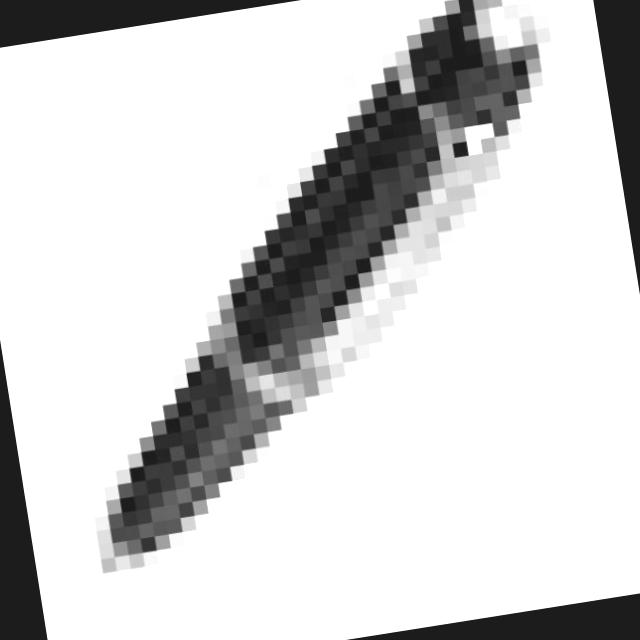Pen - Non Recyclable: (8, 0, 610, 589)
